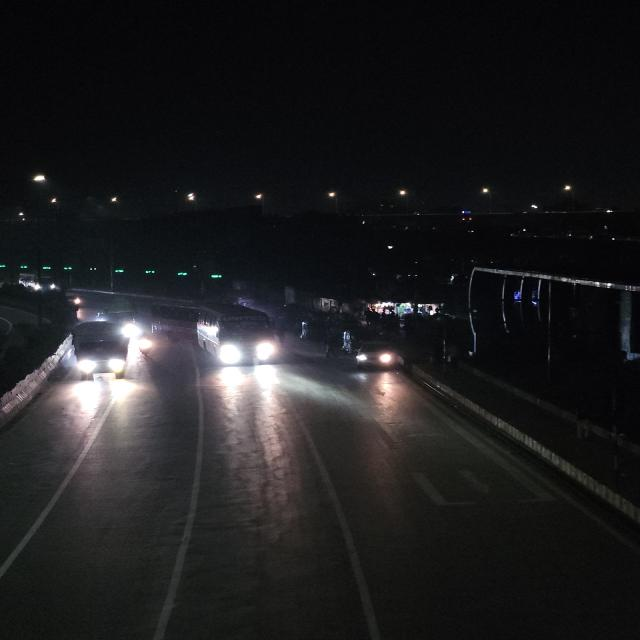bus: (197, 309, 278, 367), (152, 301, 201, 344), (20, 272, 57, 292)
car: (354, 339, 399, 376)
motorcycle: (137, 332, 154, 362)
pedestrian: (318, 336, 339, 361), (296, 317, 315, 342)
truck: (65, 324, 132, 384)
